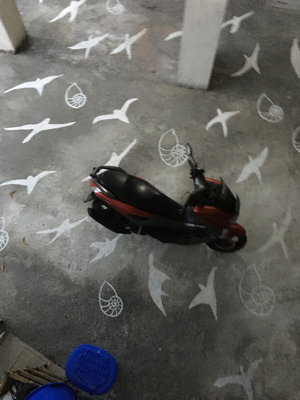moto: (86, 151, 250, 260)
